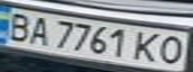1: (106, 26, 130, 59)
6: (87, 24, 112, 56)
7: (48, 18, 75, 51), (69, 20, 93, 53)
A: (24, 15, 54, 46)
B: (0, 10, 36, 43)
K: (130, 29, 166, 64)
O: (154, 34, 187, 66)
